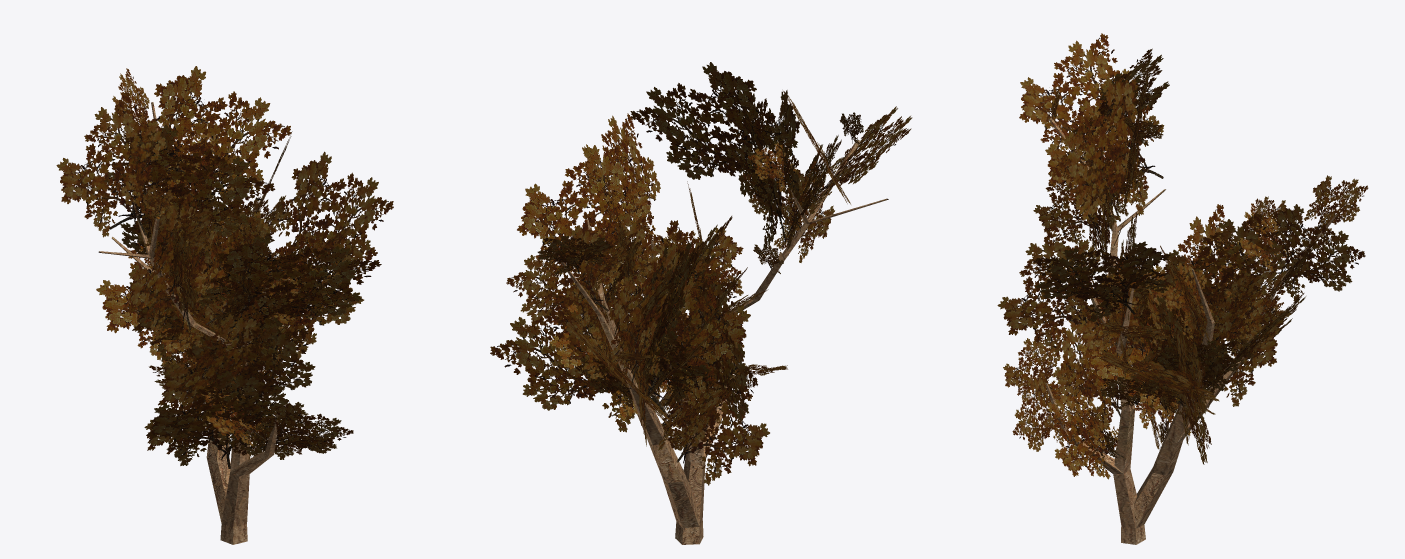
Rendered from tree03.fbx.
The picture shows the model from 3 angles, left to right: view 1: azimuth 30°, elevation 25°; view 2: azimuth 150°, elevation 25°; view 3: azimuth 270°, elevation 25°; orthographic projection. The views are drawn at different scales.
Parts seen in each view (by area): view 1: treee03; view 2: treee03; view 3: treee03.
Boxes of the visible parts, x1=… form: treee03: x1=56, y1=66, x2=393, y2=544; treee03: x1=490, y1=62, x2=912, y2=544; treee03: x1=997, y1=33, x2=1368, y2=544.
Bounding box in the file's own units: 7780 × 9583 × 7577.
